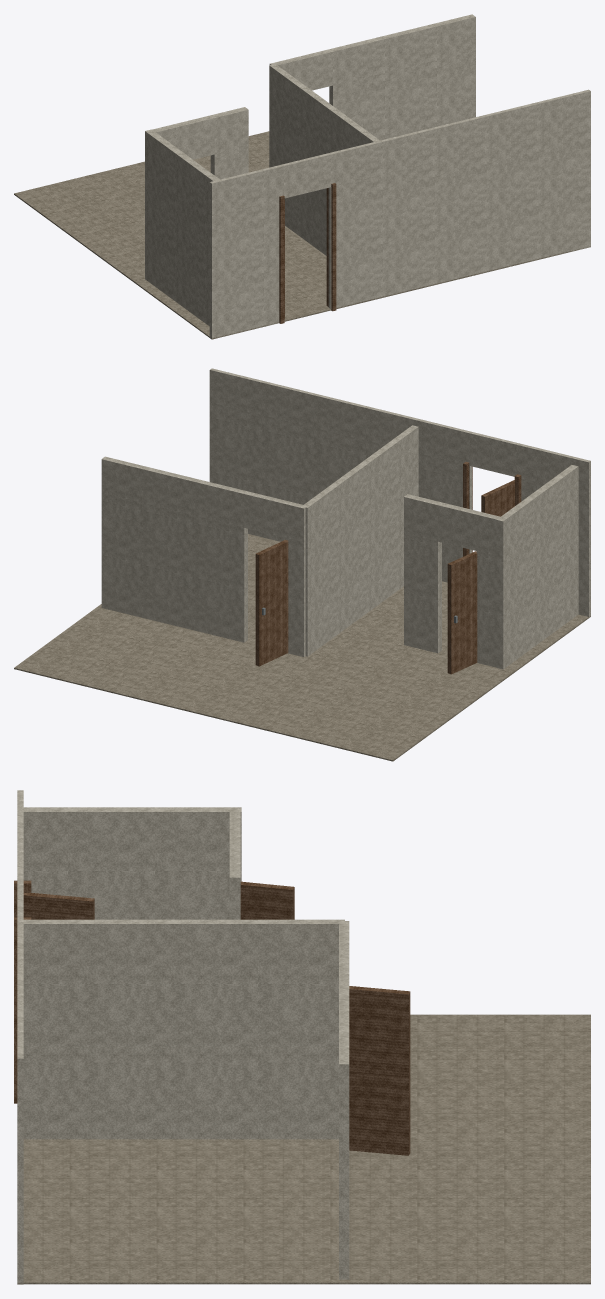
File: PZ_Midrise_UnitLayout_OneBed_B.glb
3 views of the same model, one above another, from view 1: azimuth 30°, elevation 25°; view 2: azimuth 150°, elevation 25°; view 3: azimuth 270°, elevation 25° (orthographic). The views are drawn at different scales.
Parts seen in each view (by area): view 1: OneBed_B_CorridorEntryWall_TRUE_0p90m_OPENING, OneBed_B_BedroomDivider_EW, OneBed_B_FloorFinish, OneBed_B_BathDivider_NS, OneBed_B_BedroomDivider_NS, OneBed_B_BathDivider_EW, OneBed_B_EntryDoorCasingsR, OneBed_B_EntryDoorCasings; view 2: OneBed_B_FloorFinish, OneBed_B_CorridorEntryWall_TRUE_0p90m_OPENING, OneBed_B_BedroomDivider_EW, OneBed_B_BedroomDivider_NS, OneBed_B_BathDivider_NS, OneBed_B_BathDivider_EW, OneBed_B_Bedroom_Leaf, OneBed_B_Bath_Leaf, OneBed_B_ApartmentEntry_Leaf; view 3: OneBed_B_FloorFinish, OneBed_B_BedroomDivider_NS, OneBed_B_BathDivider_NS, OneBed_B_Bedroom_Leaf, OneBed_B_BedroomDivider_EW, OneBed_B_CorridorEntryWall_TRUE_0p90m_OPENING, OneBed_B_Bath_Leaf, OneBed_B_ApartmentEntry_Leaf, OneBed_B_BathDivider_EW, OneBed_B_EntryDoorCasingsR.
Part boxes in pixels (bbox=[...]): OneBed_B_CorridorEntryWall_TRUE_0p90m_OPENING: bbox=[209, 89, 590, 339]; OneBed_B_BedroomDivider_EW: bbox=[269, 14, 475, 140]; OneBed_B_FloorFinish: bbox=[14, 131, 590, 339]; OneBed_B_BathDivider_NS: bbox=[145, 129, 219, 326]; OneBed_B_BedroomDivider_NS: bbox=[269, 64, 379, 255]; OneBed_B_BathDivider_EW: bbox=[146, 107, 248, 179]; OneBed_B_EntryDoorCasingsR: bbox=[326, 183, 336, 311]; OneBed_B_EntryDoorCasings: bbox=[279, 195, 284, 323]; OneBed_B_FloorFinish: bbox=[14, 534, 590, 761]; OneBed_B_CorridorEntryWall_TRUE_0p90m_OPENING: bbox=[209, 368, 590, 617]; OneBed_B_BedroomDivider_EW: bbox=[101, 456, 305, 657]; OneBed_B_BedroomDivider_NS: bbox=[301, 425, 418, 656]; OneBed_B_BathDivider_NS: bbox=[496, 465, 578, 669]; OneBed_B_BathDivider_EW: bbox=[404, 494, 506, 667]; OneBed_B_Bedroom_Leaf: bbox=[255, 539, 288, 666]; OneBed_B_Bath_Leaf: bbox=[447, 551, 477, 674]; OneBed_B_ApartmentEntry_Leaf: bbox=[481, 480, 514, 516]; OneBed_B_FloorFinish: bbox=[17, 1014, 590, 1284]; OneBed_B_BedroomDivider_NS: bbox=[23, 919, 344, 1139]; OneBed_B_BathDivider_NS: bbox=[23, 807, 241, 919]; OneBed_B_Bedroom_Leaf: bbox=[349, 986, 410, 1155]; OneBed_B_BedroomDivider_EW: bbox=[339, 921, 349, 1279]; OneBed_B_CorridorEntryWall_TRUE_0p90m_OPENING: bbox=[17, 790, 23, 1284]; OneBed_B_Bath_Leaf: bbox=[240, 881, 294, 919]; OneBed_B_ApartmentEntry_Leaf: bbox=[23, 893, 94, 919]; OneBed_B_BathDivider_EW: bbox=[229, 808, 240, 919]; OneBed_B_EntryDoorCasingsR: bbox=[14, 917, 31, 1103].
Bounding box in the file's own units: 7.3 × 2.87 × 6.64.
Materials: 4 (4 with a texture image).
